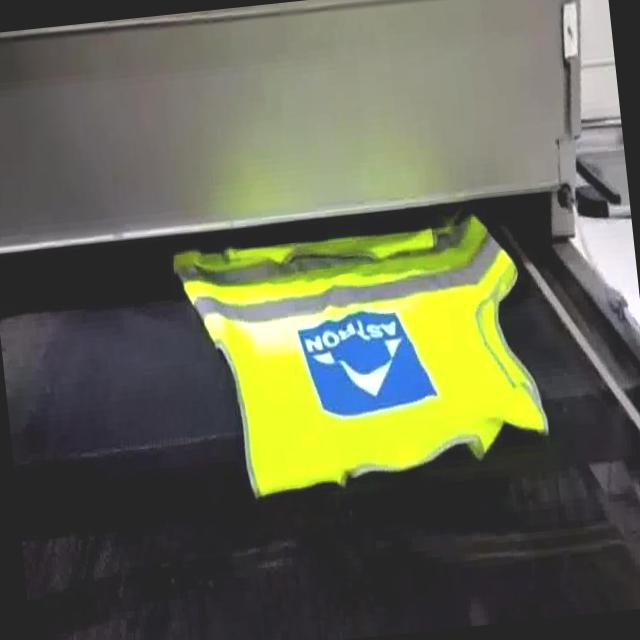vest: (168, 209, 556, 508)
